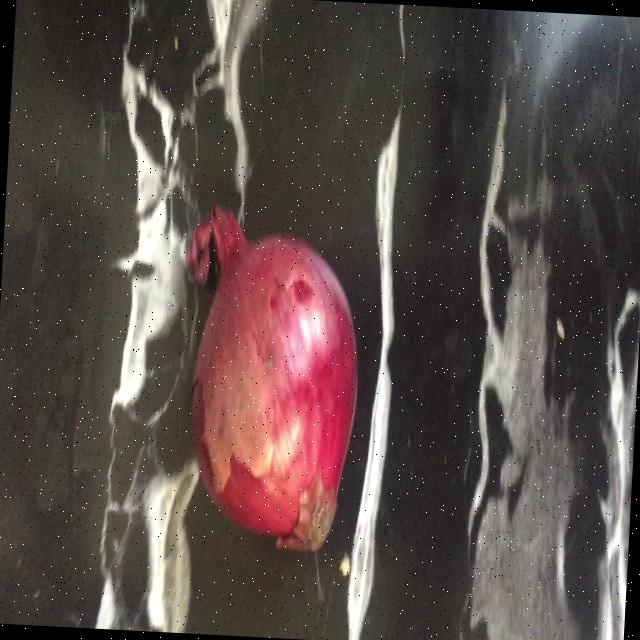Onion: (186, 207, 357, 551)
